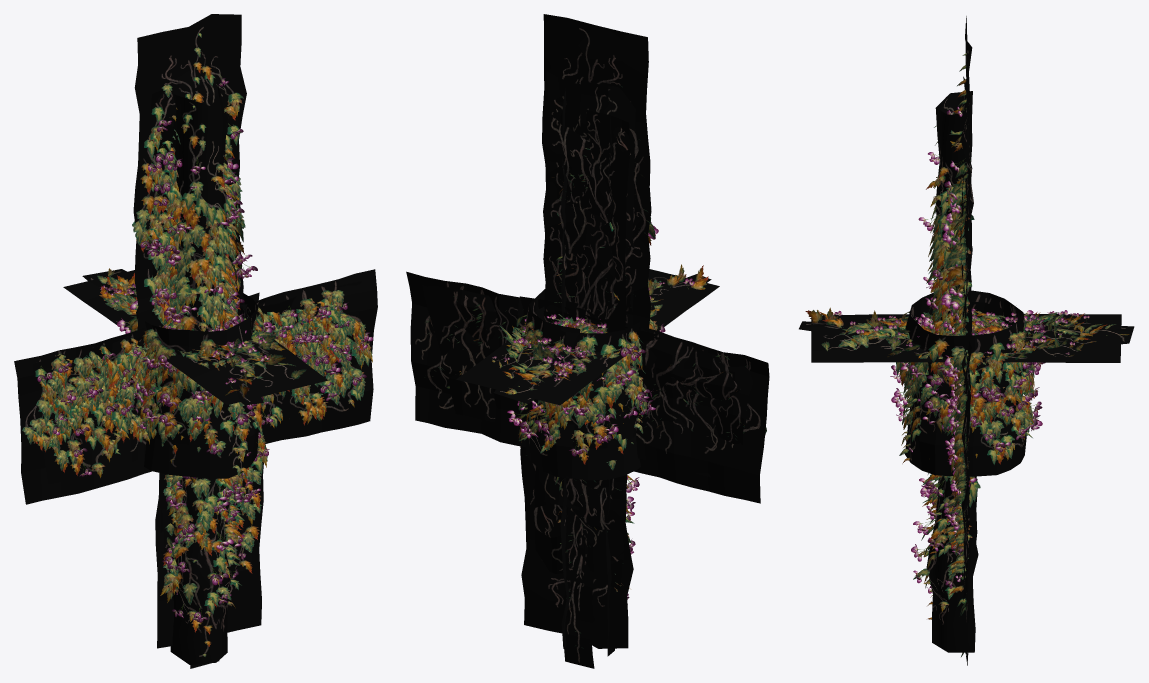
File: IvyFlowering_S.FBX
3 views of the same model, side by side, from view 1: azimuth 30°, elevation 25°; view 2: azimuth 150°, elevation 25°; view 3: azimuth 270°, elevation 25° (orthographic). The views are drawn at different scales.
Visible parts, largest first — view 1: IvyWallWD_1_FS, IvyWallU_2_FS, IvyCyllU_FS, IvyCyllUW_2_FS, IvyCyllD_FS, IvyWallWD_2_FS, IvyFloor_1_FS, IvyWallD_1_FS, IvyWallU_1_FS, IvyFloor_2_FS, IvyCyllUW_1_FS, IvyWallU_3_FS (+2 smaller); view 2: IvyWallWD_1_FS, IvyWallU_2_FS, IvyCyllUW_2_FS, IvyWallWD_2_FS, IvyWallD_1_FS, IvyFloor_1_FS, IvyWallU_3_FS, IvyWallU_1_FS, IvyWallD_6_FS, IvyWallD_2_FS, IvyFloor_2_FS, IvyCyllD_FS (+6 smaller); view 3: IvyCyllUW_2_FS, IvyFloor_1_FS, IvyCyllD_FS, IvyCyllU_FS, IvyWallWD_1_FS, IvyFloor_2_FS, IvyWallU_1_FS, IvyWallU_2_FS, IvyWallD_1_FS, IvyCyllUW_1_FS, IvyWallU_3_FS, IvyWallWD_2_FS.
Boxes of the visible parts, x1,y1,x2,y2 form: IvyWallWD_1_FS: (14,269,377,504); IvyWallU_2_FS: (132,14,246,337); IvyCyllU_FS: (158,82,243,331); IvyCyllUW_2_FS: (117,293,272,478); IvyCyllD_FS: (160,475,245,664); IvyWallWD_2_FS: (32,281,361,483); IvyFloor_1_FS: (63,270,328,404); IvyWallD_1_FS: (155,292,269,648); IvyWallU_1_FS: (149,85,257,328); IvyFloor_2_FS: (82,268,263,405); IvyCyllUW_1_FS: (142,308,255,456); IvyWallU_3_FS: (162,101,241,324); IvyWallWD_1_FS: (406,271,769,503); IvyWallU_2_FS: (542,14,658,369); IvyCyllUW_2_FS: (507,289,665,480); IvyWallWD_2_FS: (422,284,752,477); IvyWallD_1_FS: (520,296,633,648); IvyFloor_1_FS: (456,269,719,405); IvyWallU_3_FS: (549,103,630,332); IvyWallU_1_FS: (545,71,635,328); IvyWallD_6_FS: (563,301,595,668); IvyWallD_2_FS: (534,307,627,590); IvyFloor_2_FS: (493,264,711,403); IvyCyllD_FS: (555,318,639,656); IvyCyllUW_2_FS: (890,290,1045,476); IvyFloor_1_FS: (811,308,1121,367); IvyCyllD_FS: (911,314,980,652); IvyCyllU_FS: (918,91,974,335); IvyWallWD_1_FS: (945,334,971,542); IvyFloor_2_FS: (799,307,1134,348); IvyWallU_1_FS: (941,76,969,335); IvyWallU_2_FS: (941,16,973,335); IvyWallD_1_FS: (946,333,971,661); IvyCyllUW_1_FS: (900,302,1031,461); IvyWallU_3_FS: (945,125,971,335); IvyWallWD_2_FS: (947,271,971,508).
Bounding box in the file's own units: 183 × 313 × 154.
